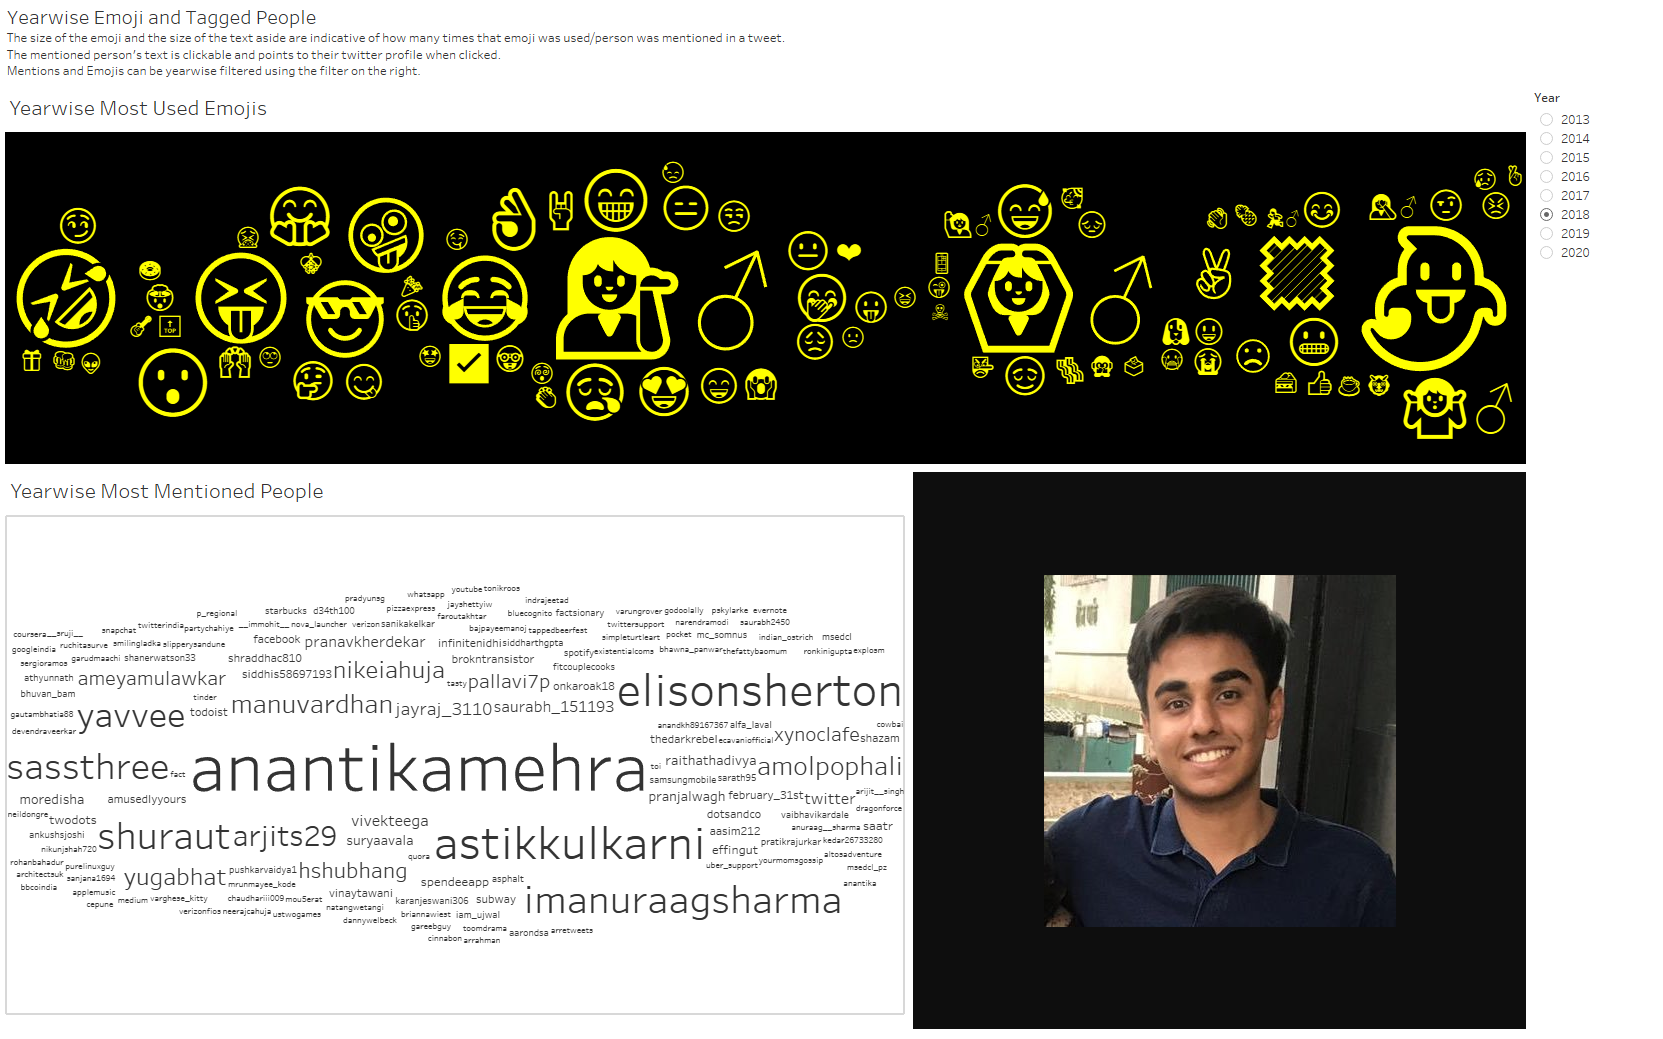

What the dashboard file says about the page in this screenshot:
{"tool":"tableau","page":{"name":"Yearwise Emoji and Tagged People","canvas":[1000,1000],"units":"permille","ordinal":1},"visuals":[{"type":"worksheet","title":"Yearwise Most Used Emojis","mark":"Text","box":[4.9,8.5,795.4,397.3]},{"type":"filter","title":"Yearwise Most Mentioned People","param":"[federated.1kg992c0r6v8751gmtn6i0o2nrsb].[none:Year:ok]","box":[800.2,8.5,194.9,983.1]},{"type":"text","box":[802.7,285,182.2,467.2]},{"type":"worksheet","title":"Yearwise Most Mentioned People","mark":"Text","box":[4.9,405.7,472.3,585.8]},{"type":"web page","param":"https://avatars.io/twitter/hshubhang","box":[477.2,405.7,323.1,585.8]}]}

Visuals, with their boxes on the dashboard's canvas, which has no fixed pixel size, in thousandths of its width and height (x1, y1, x2, y2). These are canvas units, not pixel positions in the 1663x1039 screenshot, which may show the page scaled, cropped or inside an application window:
"Yearwise Most Used Emojis" worksheet (Text marks): bbox=[5, 8, 800, 406]
"Yearwise Most Mentioned People" filter: bbox=[800, 8, 995, 992]
text: bbox=[803, 285, 985, 752]
"Yearwise Most Mentioned People" worksheet (Text marks): bbox=[5, 406, 477, 992]
web page: bbox=[477, 406, 800, 992]
